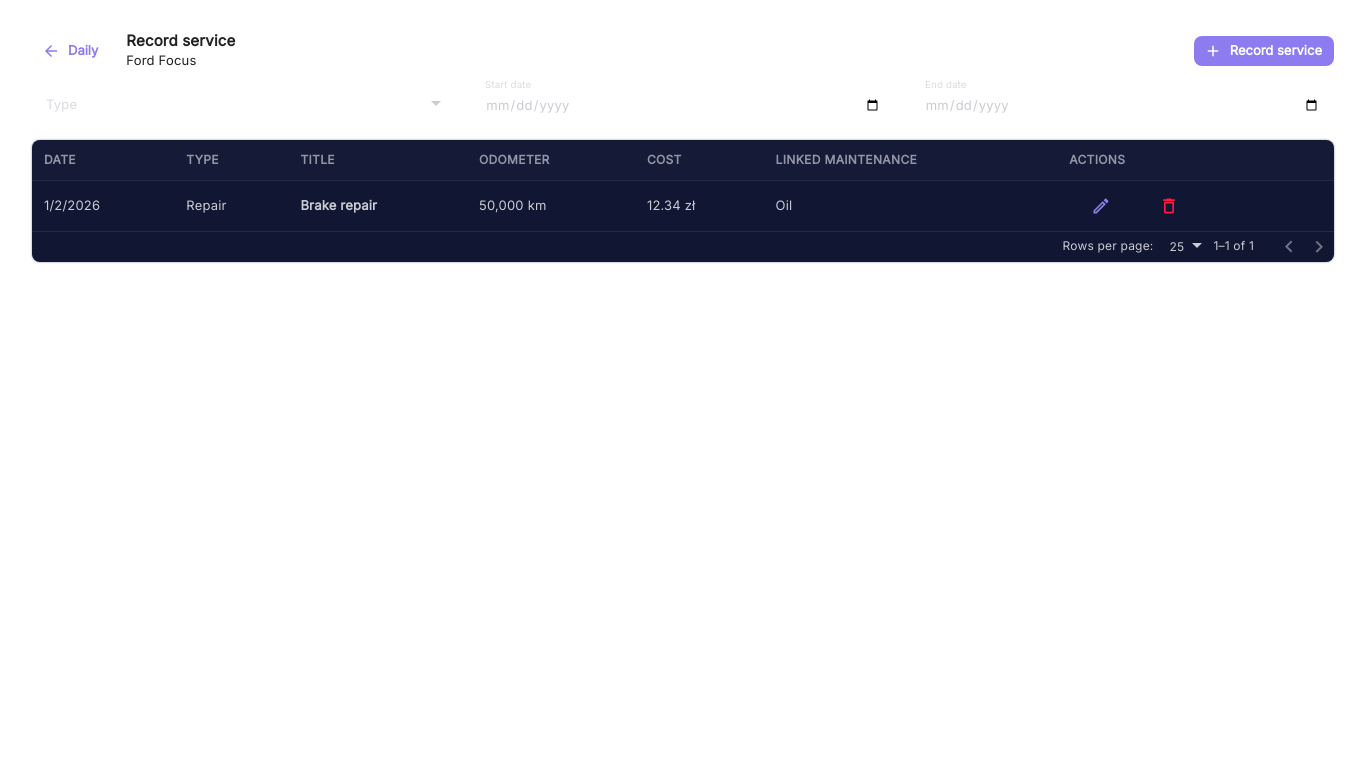
Test: My Garage review round 1 › history_WhenUpdateConflicts_ShowsServerConflictAndReloads
Expected: the text "Brake repair" is shown, [300, 197, 377, 213]
Click the button named "Edit history record: Brake repair" at (1101, 206), box [1069, 191, 1133, 221]
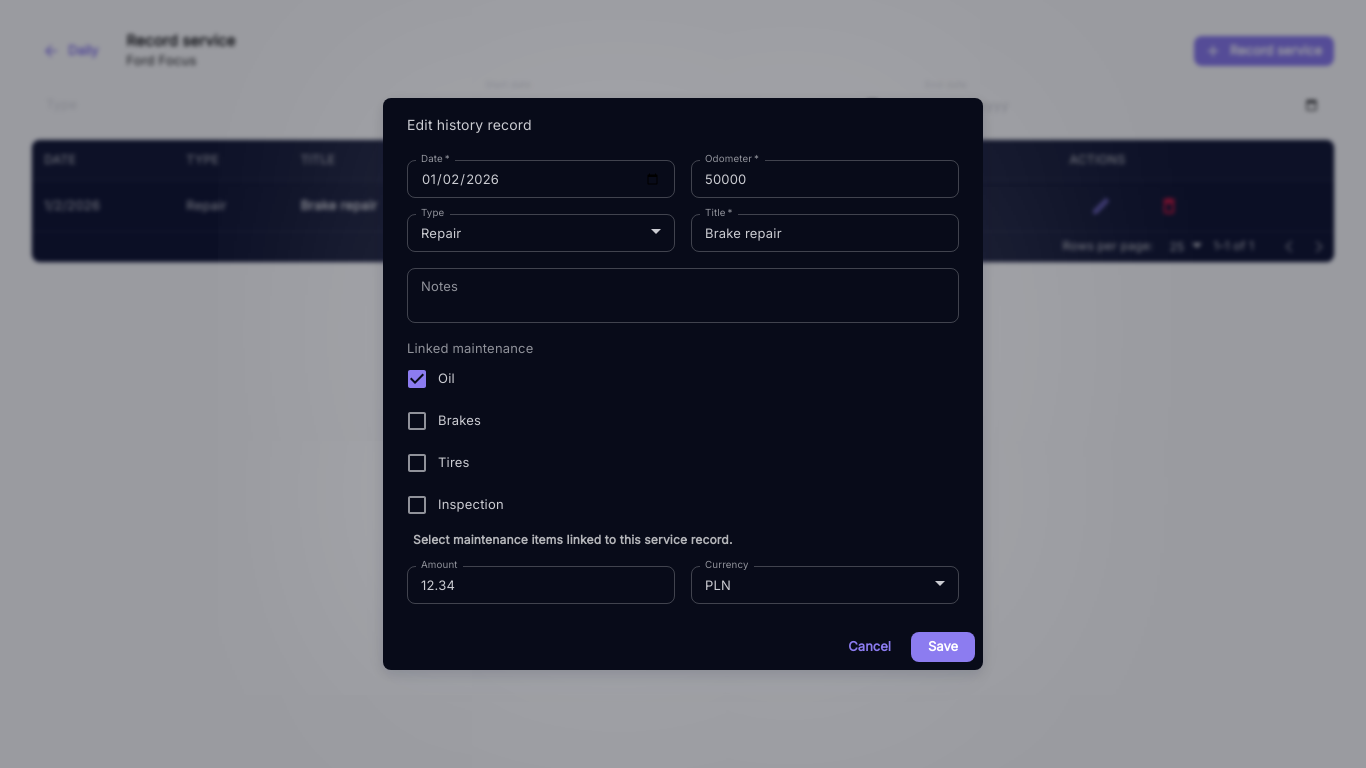
Click the button "Save" at (943, 647), box [911, 632, 975, 662]
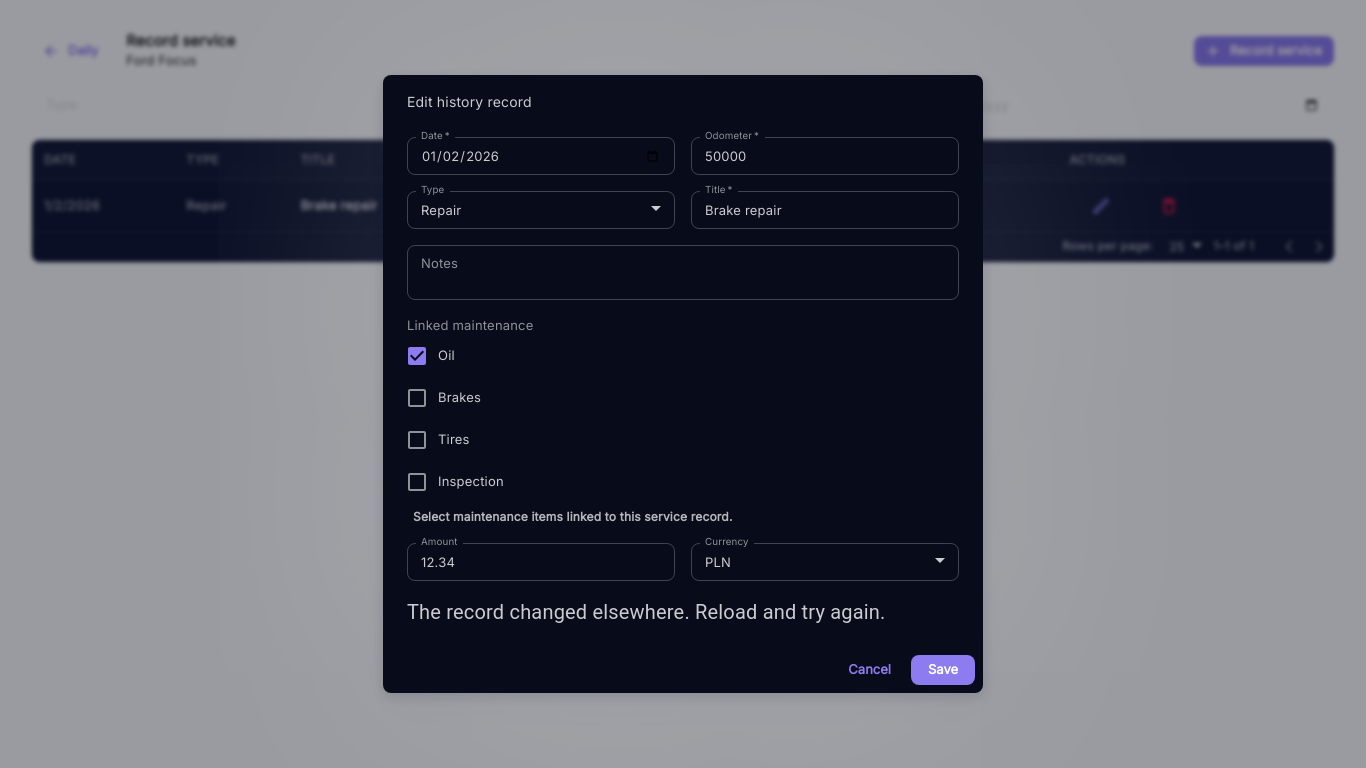
Expected: the text "The record changed elsewhere. Reload and try again." is shown, [407, 597, 959, 627]
